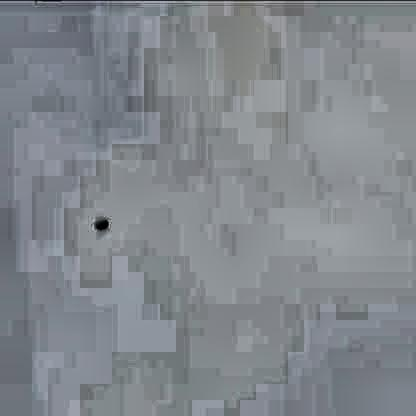golfball: (91, 215, 107, 228)
